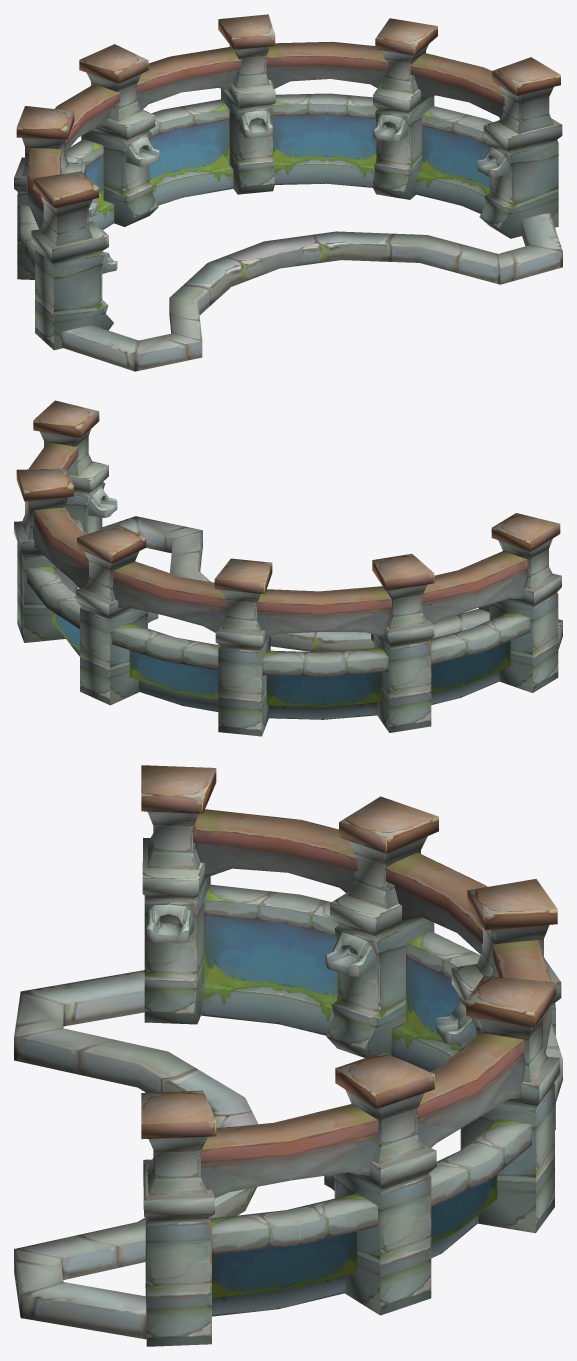
The model's file is Map_06_wall10.FBX.
3 renders of one model, top to bottom at view 1: azimuth 30°, elevation 25°; view 2: azimuth 150°, elevation 25°; view 3: azimuth 270°, elevation 25°, orthographic. The views are drawn at different scales.
Parts seen in each view (by area): view 1: Map_06_wall10; view 2: Map_06_wall10; view 3: Map_06_wall10.
Boxes of the visible parts, x1,y1,x2,y2 form: Map_06_wall10: [14, 14, 562, 371]; Map_06_wall10: [14, 400, 562, 736]; Map_06_wall10: [14, 765, 562, 1346].
Size of the model in its own units: 1284 by 822 by 368.
